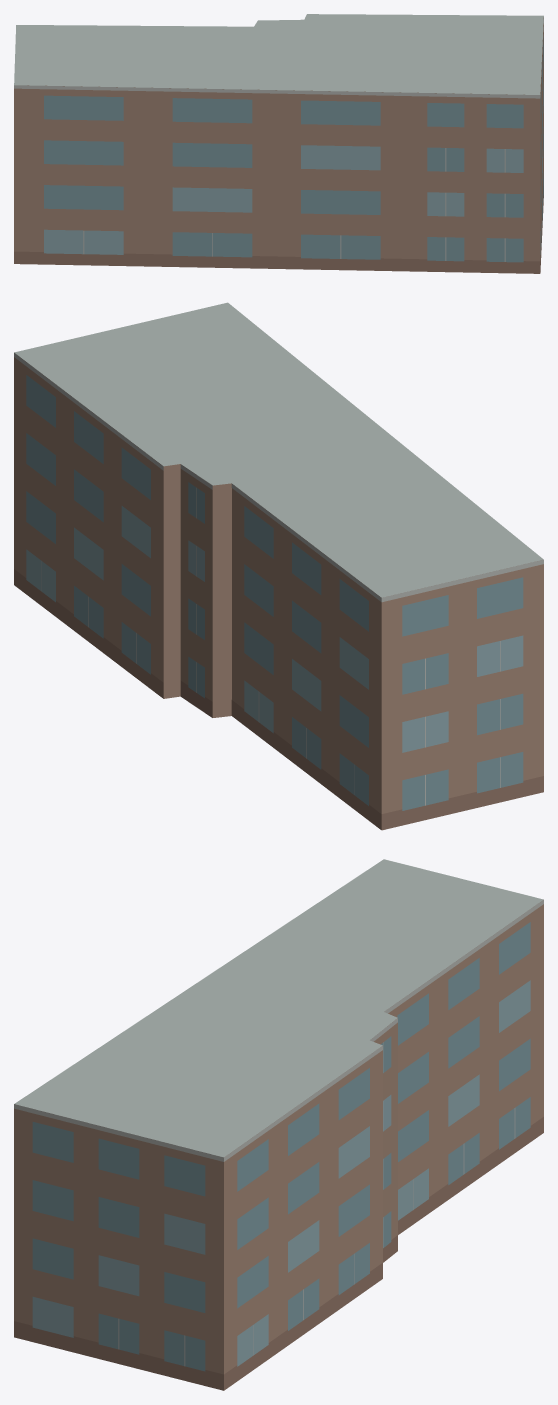
The model's file is survey-upis-33033695.glb.
3 renders of one model, top to bottom at view 1: azimuth 30°, elevation 25°; view 2: azimuth 150°, elevation 25°; view 3: azimuth 270°, elevation 25°, orthographic. The views are drawn at different scales.
Parts seen in each view (by area): view 1: survey-upis-33033695.tmp; view 2: survey-upis-33033695.tmp; view 3: survey-upis-33033695.tmp.
Part boxes in pixels (x1=…): survey-upis-33033695.tmp: x1=14, y1=14, x2=543, y2=273; survey-upis-33033695.tmp: x1=14, y1=302, x2=543, y2=830; survey-upis-33033695.tmp: x1=14, y1=859, x2=543, y2=1390.
Size of the model in its own units: 34.29 by 12.5 by 25.74.
